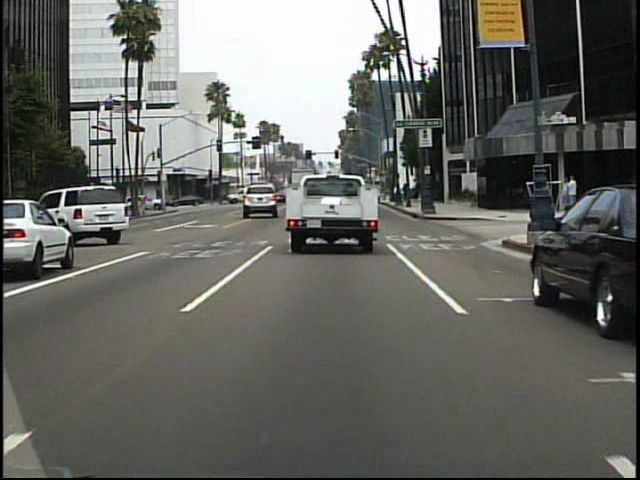person: (566, 171, 581, 212), (556, 174, 571, 215), (157, 189, 171, 214)
